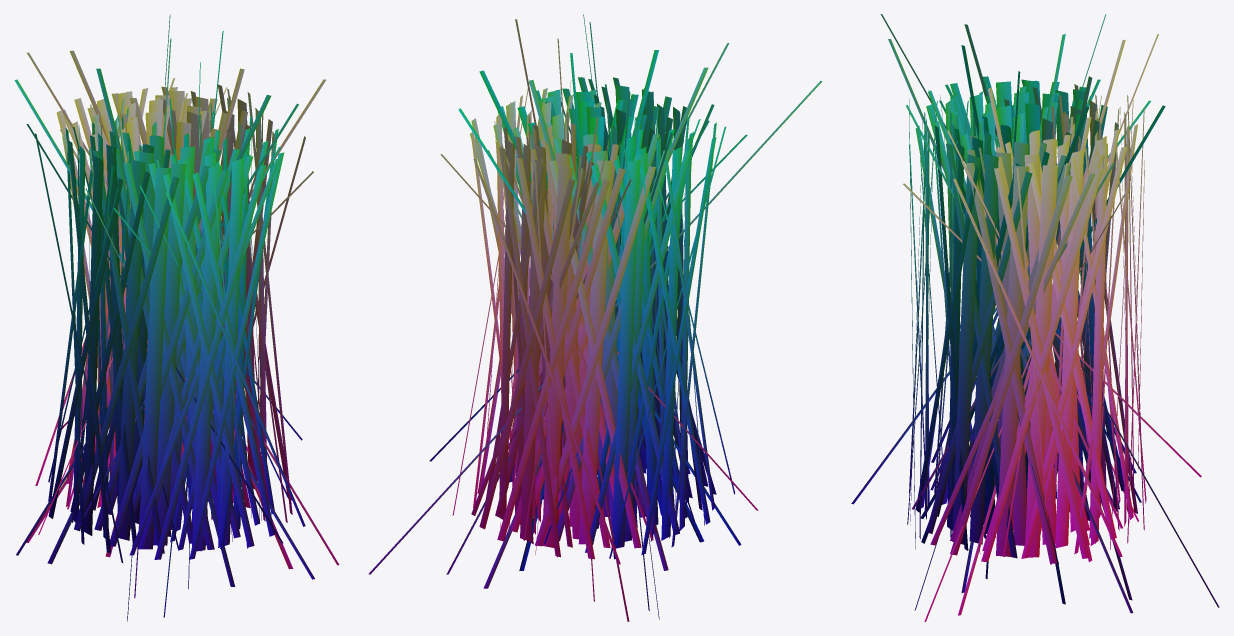
The model's file is LilyForestMergedSliced.fbx.
The picture shows the model from 3 angles, left to right: view 1: azimuth 30°, elevation 25°; view 2: azimuth 150°, elevation 25°; view 3: azimuth 270°, elevation 25°; orthographic projection. The views are drawn at different scales.
Parts seen in each view (by area): view 1: Forest; view 2: Forest; view 3: Forest.
Boxes of the visible parts, <box> form: Forest: <box>14,14,339,621</box>; Forest: <box>368,14,822,621</box>; Forest: <box>851,14,1219,621</box>.
Bounding box in the file's own units: 21020 × 33565 × 21512.
